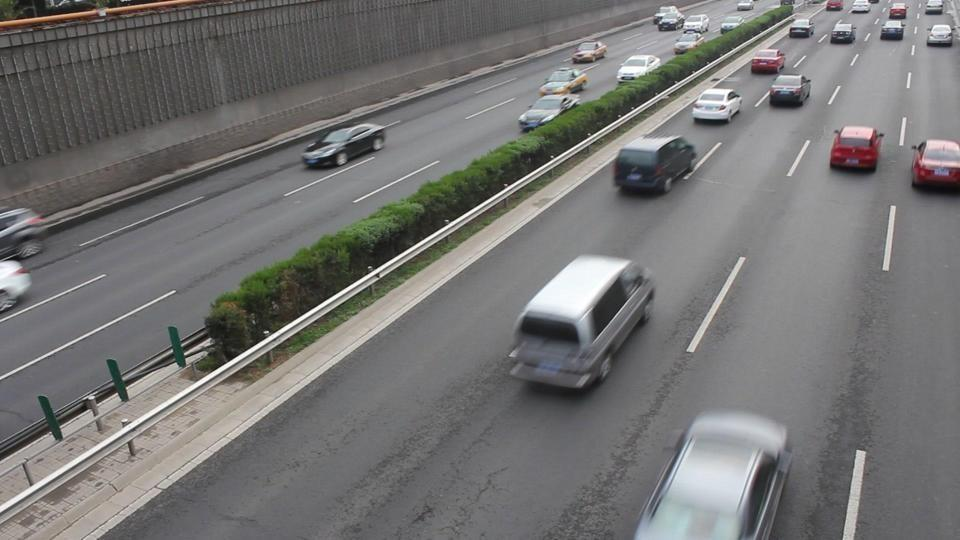car: (631, 408, 794, 539), (508, 254, 656, 393), (612, 134, 698, 195), (301, 123, 386, 170), (828, 125, 884, 172), (910, 138, 960, 190), (0, 208, 48, 260), (517, 95, 579, 134), (692, 86, 743, 124), (0, 258, 33, 311), (768, 73, 813, 108), (540, 67, 590, 96), (750, 47, 786, 74), (830, 18, 856, 45), (926, 23, 954, 48)
